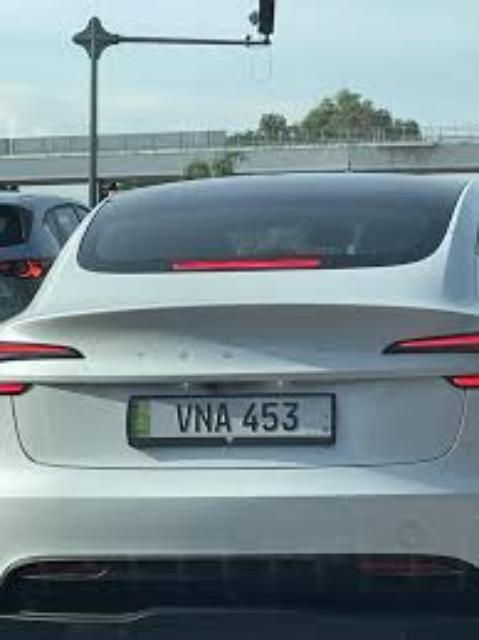License_Plate: (127, 392, 344, 458)
car: (1, 172, 479, 610)
